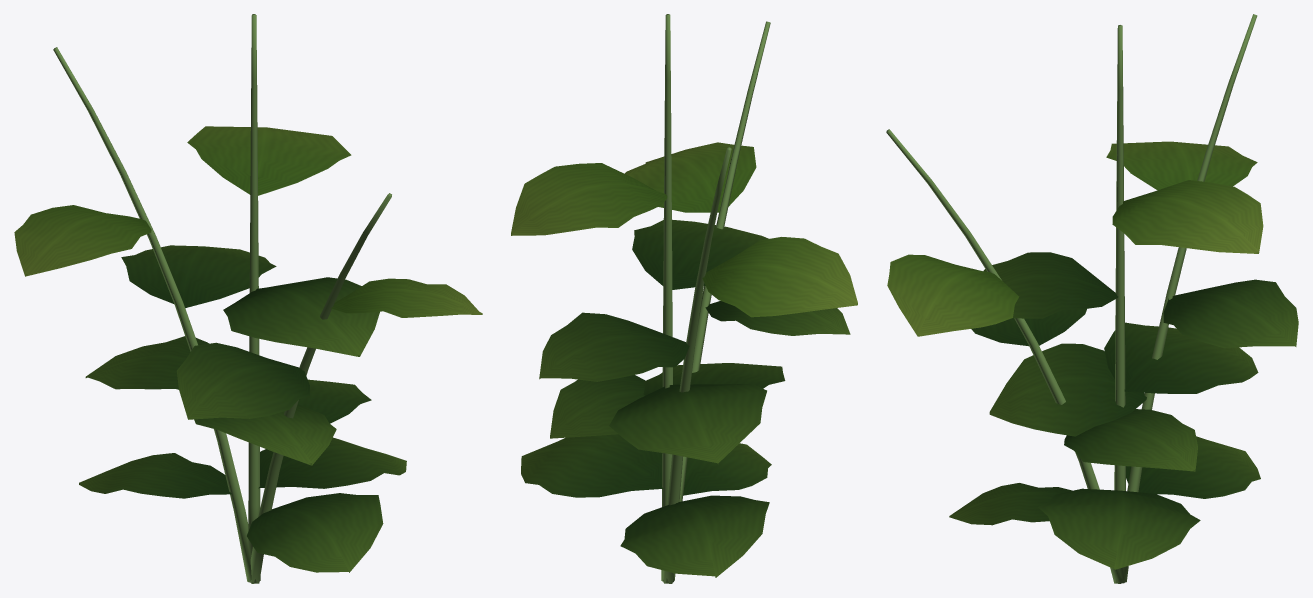
Rendered from hydrangea-06-lod.glb.
3 renders of one model, left to right at view 1: azimuth 30°, elevation 25°; view 2: azimuth 150°, elevation 25°; view 3: azimuth 270°, elevation 25°, orthographic.
Parts seen in each view (by area): view 1: hydrangea_stage_06_leaf_veins.011, hydrangea_stage_06_young_leaf.011, hydrangea_stage_06_stem_fibres.011; view 2: hydrangea_stage_06_leaf_veins.011, hydrangea_stage_06_young_leaf.011, hydrangea_stage_06_stem_fibres.011; view 3: hydrangea_stage_06_leaf_veins.011, hydrangea_stage_06_young_leaf.011, hydrangea_stage_06_stem_fibres.011.
Boxes of the visible parts, bbox=[...] form: hydrangea_stage_06_leaf_veins.011: bbox=[79, 245, 406, 572]; hydrangea_stage_06_young_leaf.011: bbox=[14, 126, 482, 317]; hydrangea_stage_06_stem_fibres.011: bbox=[53, 14, 391, 583]; hydrangea_stage_06_leaf_veins.011: bbox=[521, 219, 850, 577]; hydrangea_stage_06_young_leaf.011: bbox=[511, 142, 857, 317]; hydrangea_stage_06_stem_fibres.011: bbox=[661, 14, 770, 583]; hydrangea_stage_06_leaf_veins.011: bbox=[949, 252, 1298, 569]; hydrangea_stage_06_young_leaf.011: bbox=[887, 141, 1263, 336]; hydrangea_stage_06_stem_fibres.011: bbox=[886, 14, 1257, 583].
Bounding box in the file's own units: 0.2446 × 0.369 × 0.2478.
Materials: 3 (2 with a texture image).
